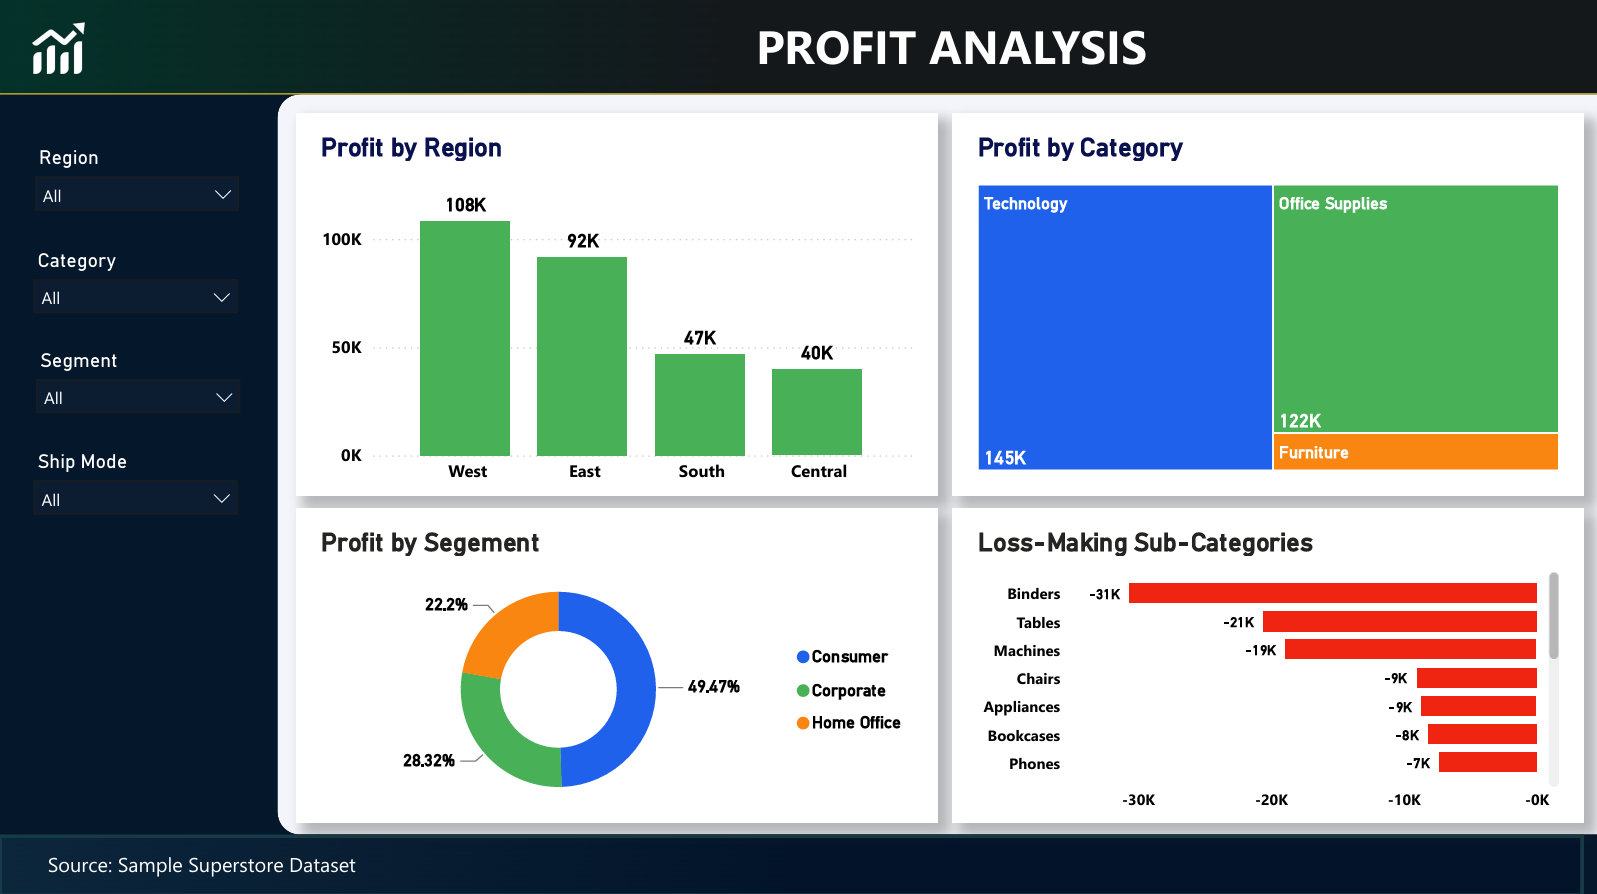

The page's visual inventory and layout, read from the dashboard file:
{"tool":"powerbi","page":{"name":"Profit Analysis","canvas":[1280,720],"ordinal":2},"visuals":[{"type":"shape","box":[222.5,77.5,1057.5,592.5],"z":0},{"type":"image","box":[-0.3,0,1280,77.5],"z":1000},{"type":"textbox","box":[243.8,9,1036.2,63.8],"z":2000},{"type":"image","box":[0,670,1267.5,50],"z":4000},{"type":"textbox","box":[33.8,670,530,50],"z":5000},{"type":"clusteredColumnChart","title":"Profit by Region","fields":{"Y":["Sum(Cleaned_Superstore.Profit)"],"Category":["Cleaned_Superstore.Region"]},"box":[237.5,92.5,513.8,306.2],"z":6000},{"type":"donutChart","title":"Profit by Segement","fields":{"Category":["Cleaned_Superstore.Segment"],"Y":["Sum(Cleaned_Superstore.Profit)"]},"box":[237.5,408.8,513.8,252.5],"z":7000},{"type":"slicer","fields":{"Values":["Cleaned_Superstore.Region"]},"box":[19.3,114.4,182.6,81.4],"z":8000},{"type":"slicer","fields":{"Values":["Cleaned_Superstore.Category"]},"box":[18.1,195.8,182.6,81.4],"z":9000},{"type":"slicer","fields":{"Values":["Cleaned_Superstore.Segment"]},"box":[20.4,276,182.6,81.4],"z":10000},{"type":"slicer","fields":{"Values":["Cleaned_Superstore.Ship_Mode"]},"box":[18.1,357.4,182.6,81.4],"z":11000},{"type":"image","box":[0,16.2,93.8,51.2],"z":12000},{"type":"treemap","title":"Profit by Category","fields":{"Group":["Cleaned_Superstore.Category"],"Values":["Sum(Cleaned_Superstore.Profit)"]},"box":[762.5,92.5,505,306.2],"z":13000},{"type":"clusteredBarChart","title":"Loss-Making Sub-Categories","fields":{"Category":["Cleaned_Superstore.Sub_Category"],"Y":["Sum(Cleaned_Superstore.Loss)"]},"box":[762.5,408.8,505,252.5],"z":14000}]}

Visuals, with their boxes in screenshot pixels (x1, y1, x2, y2), scaled from the page's 1280x720 canvas onto the 1597x894 screenshot:
shape: select_region(278, 96, 1596, 832)
image: select_region(0, 0, 1596, 96)
textbox: select_region(304, 11, 1596, 90)
image: select_region(0, 832, 1581, 893)
textbox: select_region(42, 832, 703, 893)
"Profit by Region" clusteredColumnChart: select_region(296, 115, 937, 495)
"Profit by Segement" donutChart: select_region(296, 508, 937, 821)
slicer - Cleaned_Superstore.Region: select_region(24, 142, 252, 243)
slicer - Cleaned_Superstore.Category: select_region(23, 243, 250, 344)
slicer - Cleaned_Superstore.Segment: select_region(25, 343, 253, 444)
slicer - Cleaned_Superstore.Ship_Mode: select_region(23, 444, 250, 545)
image: select_region(0, 20, 117, 84)
"Profit by Category" treemap: select_region(951, 115, 1581, 495)
"Loss-Making Sub-Categories" clusteredBarChart: select_region(951, 508, 1581, 821)
